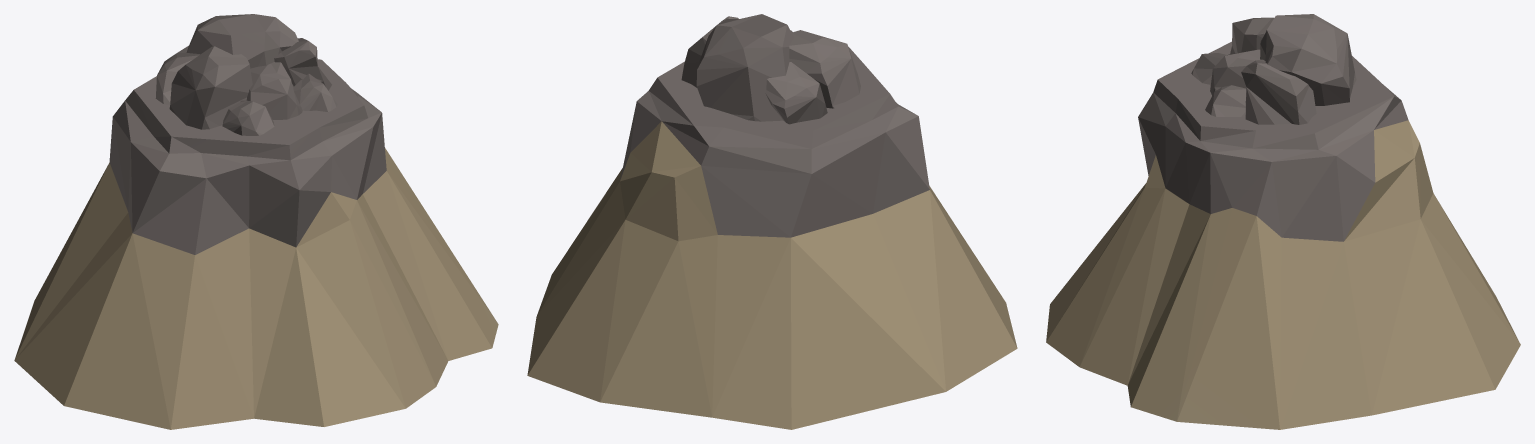
The model's file is mermaidRocks.fbx.
3 views of the same model, side by side, from view 1: azimuth 30°, elevation 25°; view 2: azimuth 150°, elevation 25°; view 3: azimuth 270°, elevation 25° (orthographic).
Visible parts, largest first — view 1: mermaidRocks; view 2: mermaidRocks; view 3: mermaidRocks.
Boxes of the visible parts, x1,y1,x2,y2 form: mermaidRocks: (14, 14, 498, 429); mermaidRocks: (527, 14, 1017, 429); mermaidRocks: (1046, 14, 1520, 429).
Bounding box in the file's own units: 7.19 × 4.94 × 6.93.
Materials: 1 (1 with a texture image).
